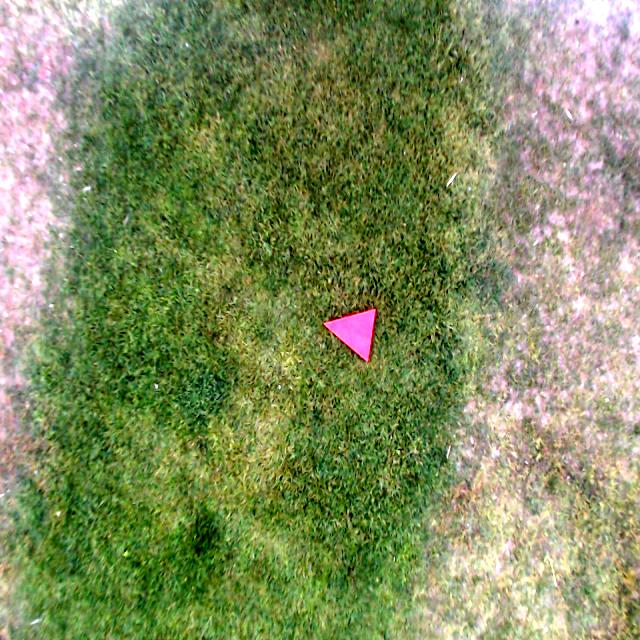red_triangle: (323, 305, 377, 364)
